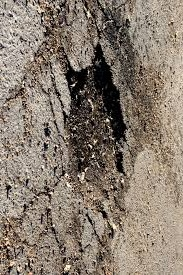pothole: (49, 40, 129, 209)
